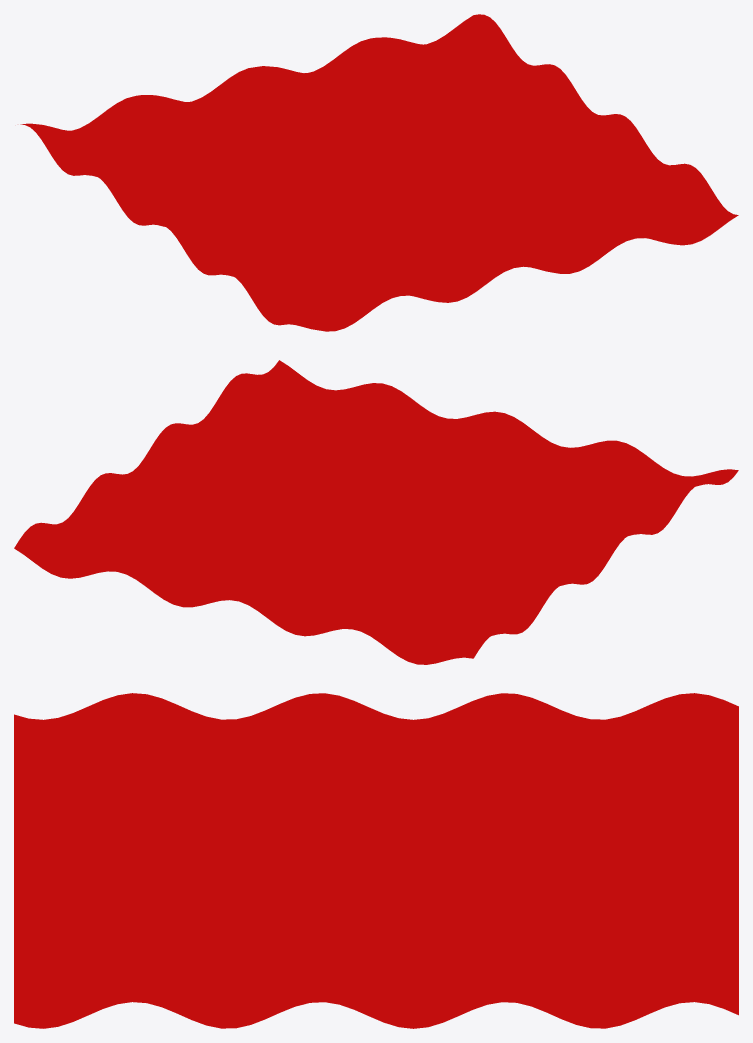
Rendered from 138c60d4-6a0d-44a8-aee1-0906b11ae185.tmp.obj.
3 renders of one model, top to bottom at view 1: azimuth 30°, elevation 25°; view 2: azimuth 150°, elevation 25°; view 3: azimuth 270°, elevation 25°, orthographic. The views are drawn at different scales.
Bounding box in the file's own units: 49 × 4 × 49.
